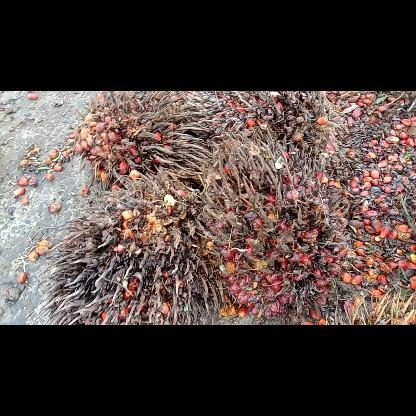Terlalu masak: (188, 132, 358, 324), (28, 170, 230, 324), (69, 91, 219, 183), (186, 90, 340, 160)
